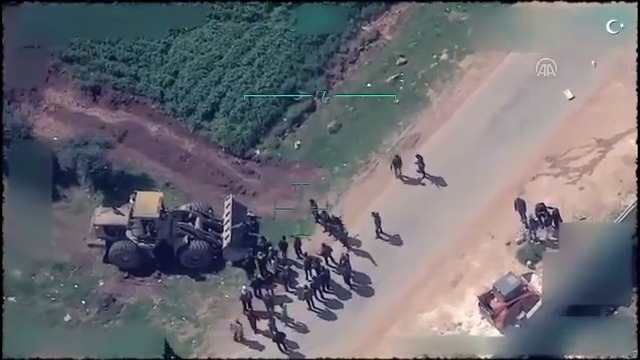arac: (84, 185, 255, 278), (479, 263, 540, 326)
insan: (336, 258, 356, 294), (235, 282, 257, 314), (388, 149, 408, 182), (226, 315, 248, 344), (314, 240, 337, 267), (412, 149, 429, 183), (300, 281, 317, 314), (510, 194, 528, 225), (271, 327, 291, 354), (370, 210, 386, 240), (309, 194, 322, 226), (275, 234, 290, 261), (292, 235, 307, 261)
